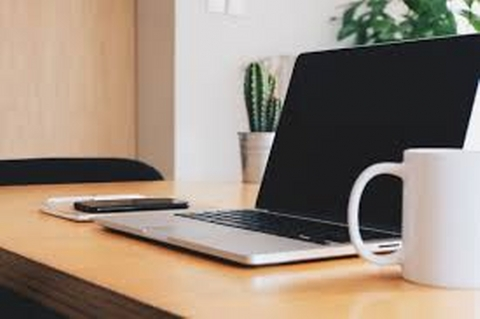pc: (92, 33, 480, 270)
tempat minum: (346, 149, 480, 290)
